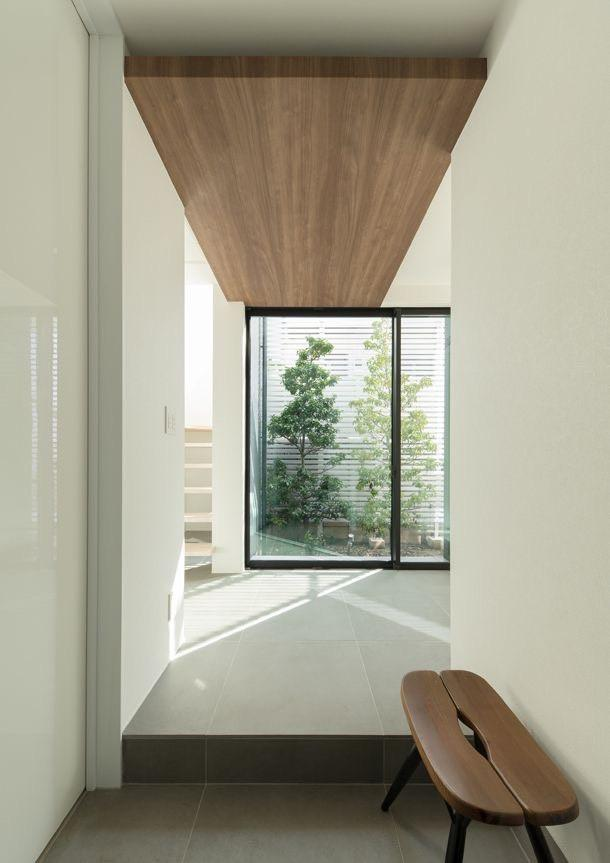floor: (42, 783, 539, 862)
safe: (122, 556, 450, 735)
